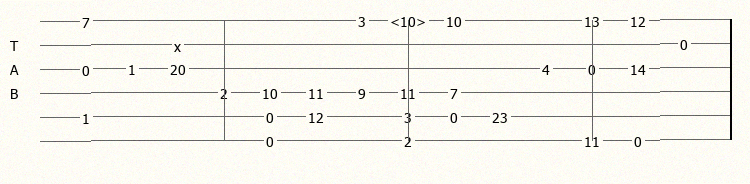0: (82, 61, 94, 75), (266, 109, 278, 123), (266, 133, 278, 147), (450, 109, 462, 123), (588, 61, 600, 75), (634, 133, 646, 147), (680, 37, 692, 51)
1: (82, 109, 94, 123), (128, 61, 140, 75)
10: (262, 85, 282, 99), (446, 13, 466, 27)
11: (308, 85, 328, 99), (400, 85, 420, 99), (584, 133, 604, 147)
12: (308, 109, 328, 123), (630, 13, 650, 27)
13: (584, 13, 604, 27)
14: (630, 61, 650, 75)
2: (220, 85, 232, 99), (404, 133, 416, 147)
20: (170, 61, 190, 75)
23: (492, 109, 512, 123)
3: (358, 13, 370, 27), (404, 109, 416, 123)
4: (542, 61, 554, 75)
7: (82, 13, 94, 27), (450, 85, 462, 99)
9: (358, 85, 370, 99)
harmonic: (390, 13, 430, 27)
x: (174, 38, 185, 50)
